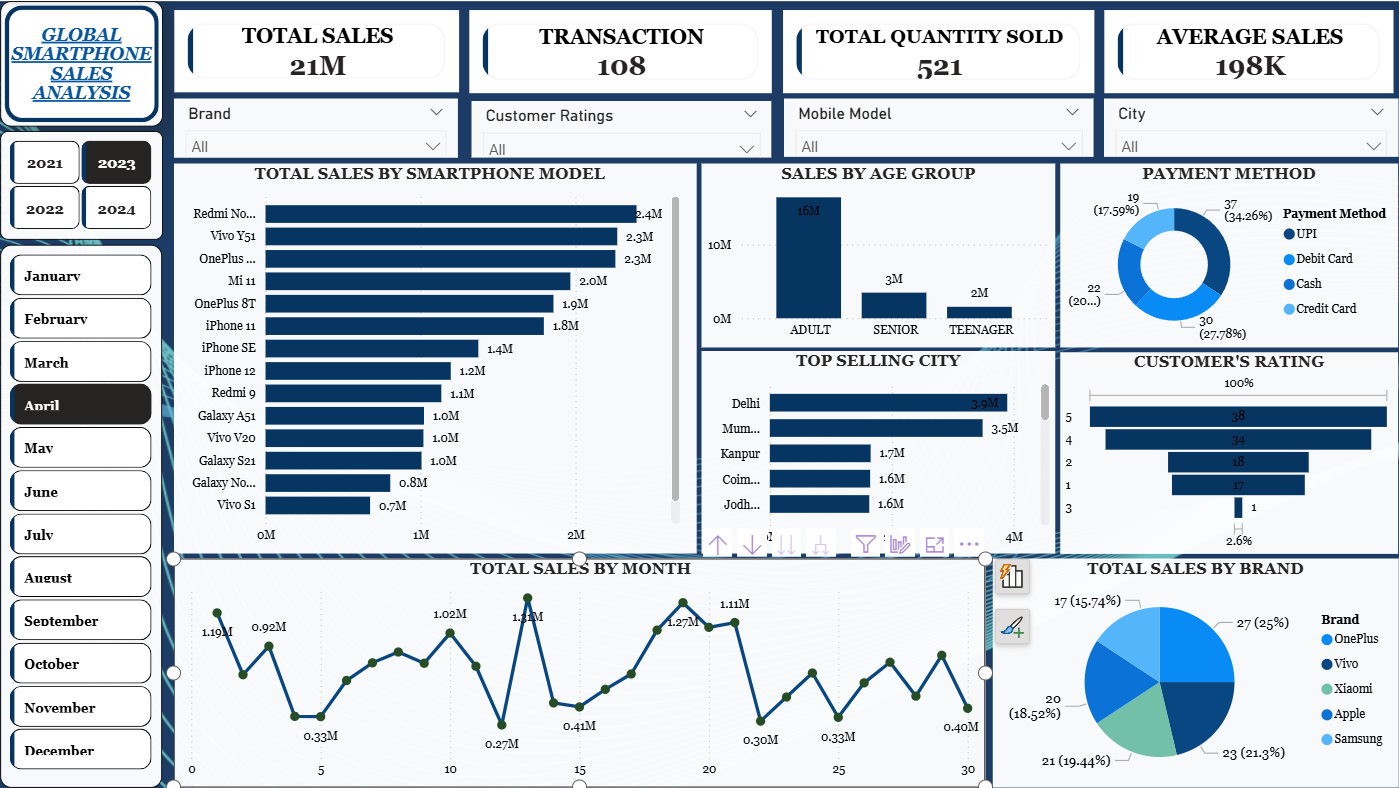

The dashboard page shown, as its layout file describes it:
{"tool":"powerbi","page":{"name":"Page 1","canvas":[1280,720],"ordinal":0},"visuals":[{"type":"shape","box":[5.6,0,147.5,113.8],"z":0},{"type":"advancedSlicerVisual","fields":{"Values":["Sheet1.DATE.Variation.Date Hierarchy.Month"]},"box":[5.8,220.8,146.7,490.8],"z":1000},{"type":"cardVisual","fields":{"Data":["Sum(Sheet1.SALES)"]},"box":[157.9,3.7,267.4,84.7],"z":2000},{"type":"cardVisual","fields":{"Data":["Avg(Sheet1.SALES)"]},"box":[1000,3.8,271.2,85],"z":3000},{"type":"cardVisual","fields":{"Data":["CountNonNull(Sheet1.SALES)"]},"box":[425.6,3.3,283.3,85.6],"z":4000},{"type":"cardVisual","fields":{"Data":["Sum(Sheet1.Units Sold)"]},"box":[708.8,3.1,291.2,85.6],"z":5000},{"type":"lineChart","title":"TOTAL SALES BY MONTH","fields":{"Category":["Sheet1.DATE.Variation.Date Hierarchy.Month","Sheet1.DATE.Variation.Date Hierarchy.Day"],"Y":["Sum(Sheet1.SALES)"]},"box":[162.9,504.3,734.3,207.1],"z":6000},{"type":"pieChart","title":"TOTAL SALES BY BRAND","fields":{"Category":["Sheet1.Brand"],"Y":["CountNonNull(Sheet1.SALES)"]},"box":[902.9,504.3,367.1,207.1],"z":7000},{"type":"funnel","title":"CUSTOMER''S RATING","fields":{"Category":["Sheet1.Customer Ratings"],"Y":["CountNonNull(Sheet1.Customer Ratings)"]},"box":[964.4,317.5,305.6,182.5],"z":8000},{"type":"clusteredBarChart","title":"TOP SELLING CITY","fields":{"Category":["Sheet1.City"],"Y":["Sum(Sheet1.SALES)"]},"box":[640,316.9,320,183.1],"z":9000},{"type":"donutChart","title":" PAYMENT METHOD","fields":{"Category":["Sheet1.Payment Method"],"Y":["CountNonNull(Sheet1.Payment Method)"]},"box":[964.6,146.9,305.4,166.2],"z":10000},{"type":"clusteredColumnChart","title":"SALES BY AGE GROUP","fields":{"Category":["Sheet1.AGE GROUP"],"Y":["Sum(Sheet1.SALES)"]},"box":[640,147.1,320,166.2],"z":11000},{"type":"clusteredBarChart","title":"TOTAL SALES BY SMARTPHONE  MODEL","fields":{"Category":["Sheet1.Mobile Model"],"Y":["Sum(Sheet1.SALES)"]},"box":[162.9,147.1,472.9,352.9],"z":12000},{"type":"advancedSlicerVisual","fields":{"Values":["Sheet1.DATE.Variation.Date Hierarchy.Year"]},"box":[5.7,117.1,147.1,98.6],"z":13000},{"type":"slicer","fields":{"Values":["Sheet1.Brand"]},"box":[163.3,88.3,256.7,53.3],"z":14000},{"type":"slicer","fields":{"Values":["Sheet1.Mobile Model"]},"box":[714.3,88.6,280,52.9],"z":15000},{"type":"slicer","fields":{"Values":["Sheet1.City"]},"box":[1003.8,88.8,266.2,52.5],"z":16000},{"type":"slicer","fields":{"Values":["Sheet1.Customer Ratings"]},"box":[431.4,90,271.4,51.4],"z":17000}]}

Visuals, with their boxes in screenshot pixels (x1, y1, x2, y2), scaled from the page's 1280x720 canvas onto the 1399x788 screenshot:
shape: left=6, top=0, right=167, bottom=125
advancedSlicerVisual - Sheet1.DATE.Variation.Date Hierarchy.Month: left=6, top=242, right=167, bottom=779
cardVisual - Sum(Sheet1.SALES): left=173, top=4, right=465, bottom=97
cardVisual - Avg(Sheet1.SALES): left=1093, top=4, right=1389, bottom=97
cardVisual - CountNonNull(Sheet1.SALES): left=465, top=4, right=775, bottom=97
cardVisual - Sum(Sheet1.Units Sold): left=775, top=3, right=1093, bottom=97
"TOTAL SALES BY MONTH" lineChart: left=178, top=552, right=981, bottom=779
"TOTAL SALES BY BRAND" pieChart: left=987, top=552, right=1388, bottom=779
"CUSTOMER''S RATING" funnel: left=1054, top=347, right=1388, bottom=547
"TOP SELLING CITY" clusteredBarChart: left=700, top=347, right=1049, bottom=547
" PAYMENT METHOD" donutChart: left=1054, top=161, right=1388, bottom=343
"SALES BY AGE GROUP" clusteredColumnChart: left=700, top=161, right=1049, bottom=343
"TOTAL SALES BY SMARTPHONE  MODEL" clusteredBarChart: left=178, top=161, right=695, bottom=547
advancedSlicerVisual - Sheet1.DATE.Variation.Date Hierarchy.Year: left=6, top=128, right=167, bottom=236
slicer - Sheet1.Brand: left=178, top=97, right=459, bottom=155
slicer - Sheet1.Mobile Model: left=781, top=97, right=1087, bottom=155
slicer - Sheet1.City: left=1097, top=97, right=1388, bottom=155
slicer - Sheet1.Customer Ratings: left=472, top=99, right=768, bottom=155
